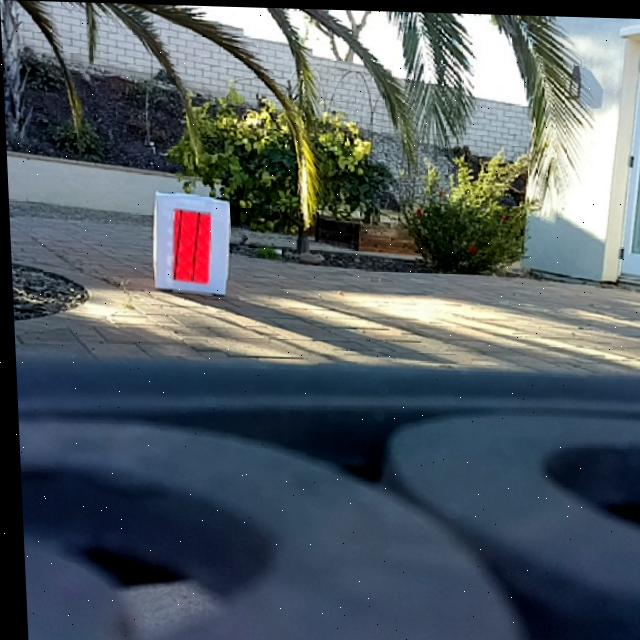led: (170, 208, 209, 283)
